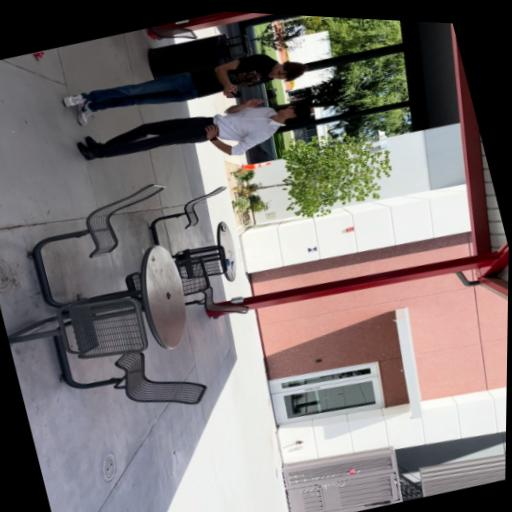target6: (306, 245, 318, 254)
